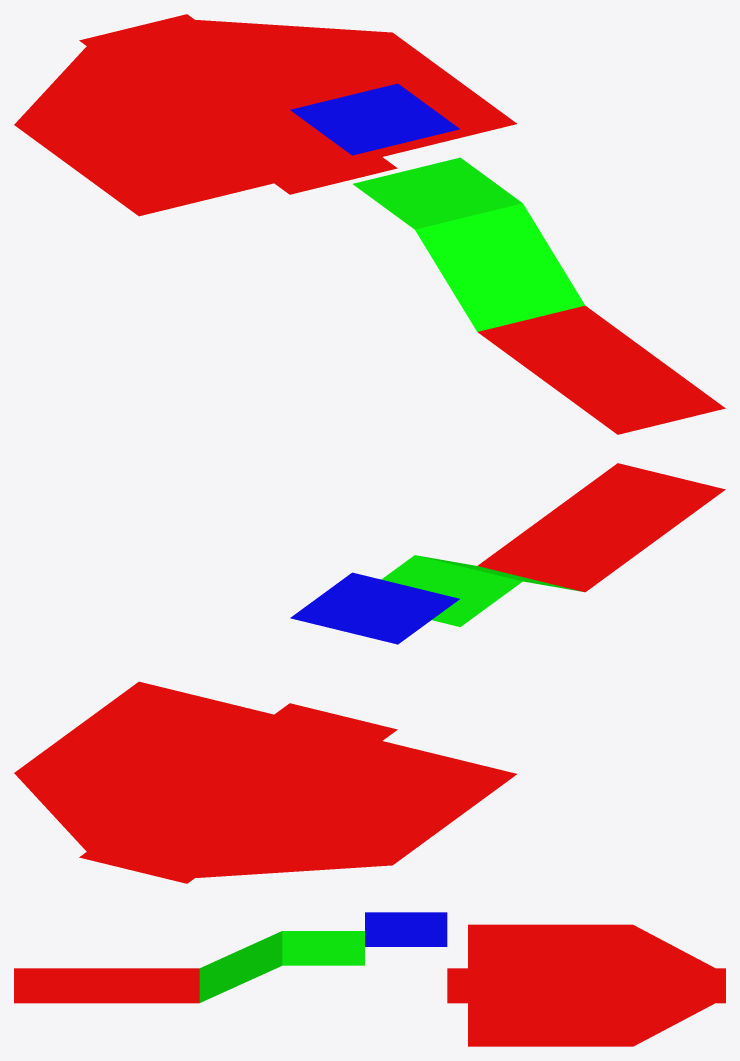
The model's file is PisoSala0.glb.
3 renders of one model, top to bottom at view 1: azimuth 30°, elevation 25°; view 2: azimuth 150°, elevation 25°; view 3: azimuth 270°, elevation 25°, orthographic. The views are drawn at different scales.
Visible parts, largest first — view 1: PisoSala0; view 2: PisoSala0; view 3: PisoSala0.
Part boxes in pixels (left/top/right/bottom): PisoSala0: left=14, top=14, right=725, bottom=434; PisoSala0: left=14, top=463, right=725, bottom=883; PisoSala0: left=14, top=912, right=725, bottom=1046.
Size of the model in its own units: 14 by 3 by 34.5.
